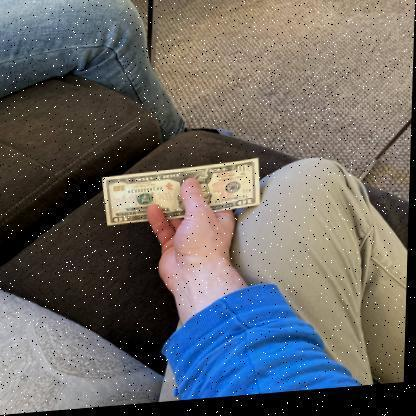ten-front: (102, 162, 263, 230)
